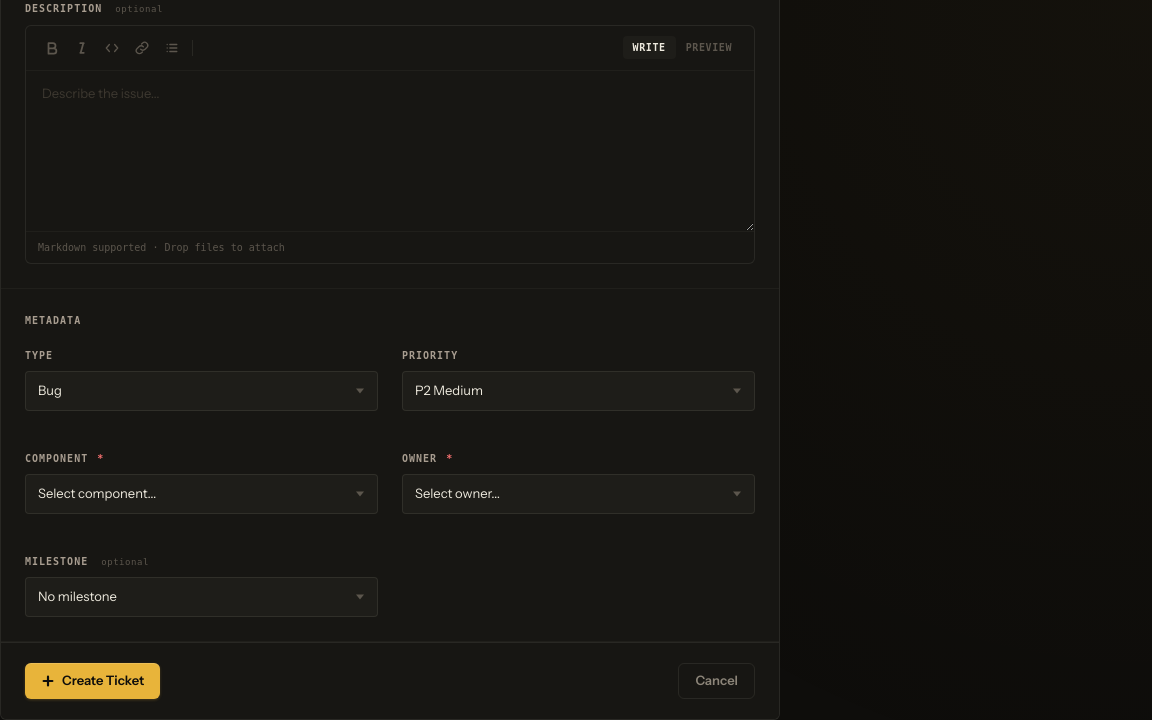
Test: CreateTicketPage › shows validation errors when submitting empty form
The width and height of the screenshot is (1152, 720).
(page scrolled)
Click the button "Create Ticket" at x=93, y=681, box x1=25 y1=663 x2=160 y2=699
(page scrolled)
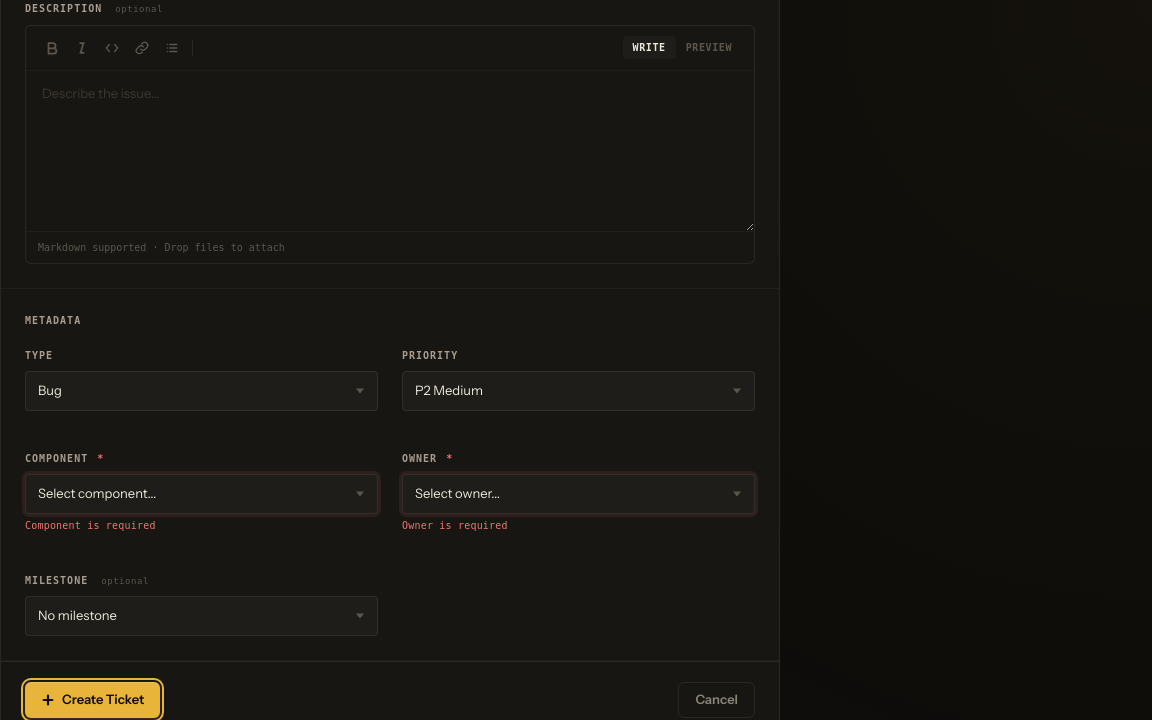
Check: the text "Component is required" is shown, box x1=25 y1=520 x2=156 y2=530
Check: the text "Owner is required" is shown, box x1=402 y1=520 x2=508 y2=530
